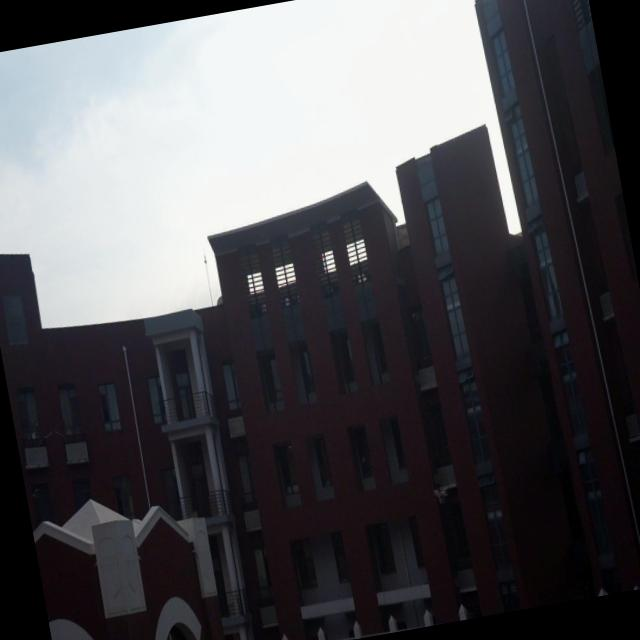drone: (430, 480, 452, 508)
